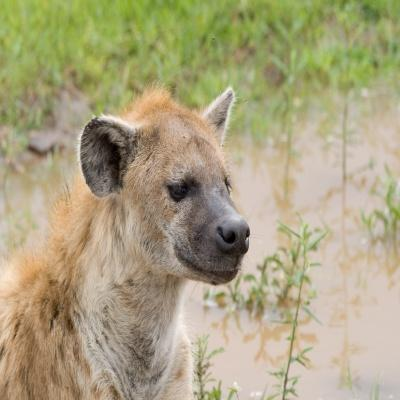hyenas: (0, 72, 296, 400)
